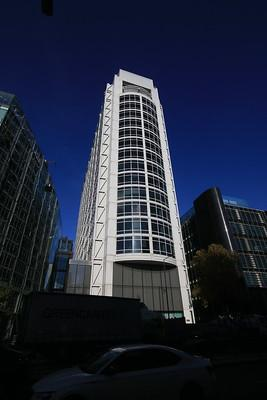building: (70, 63, 200, 352)
